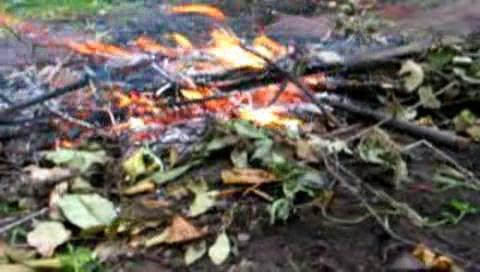fire: (99, 91, 298, 138), (63, 37, 288, 76)
